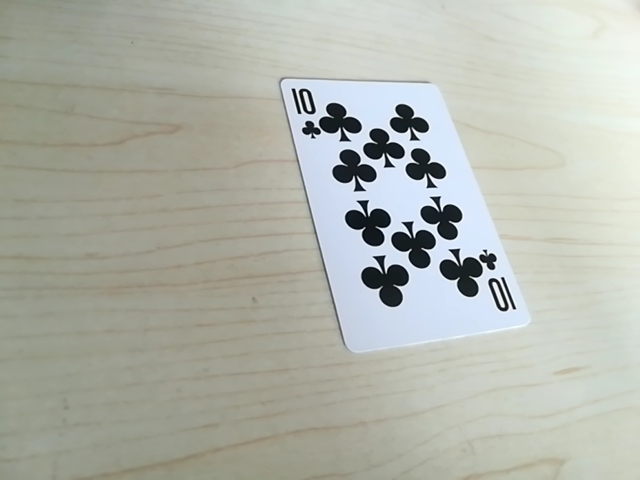mh 10: (473, 261, 517, 316), (284, 87, 327, 138)
